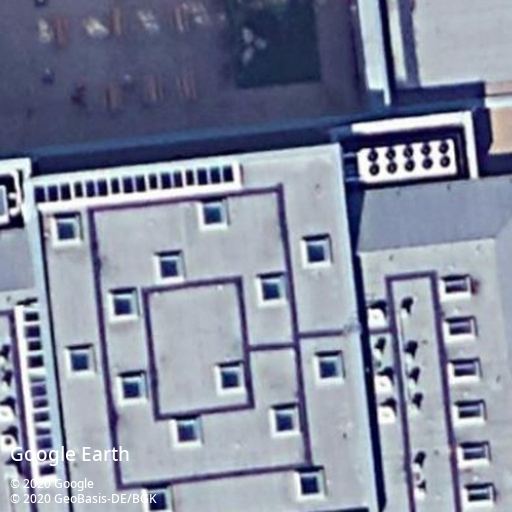Chiller: (356, 135, 460, 186)
